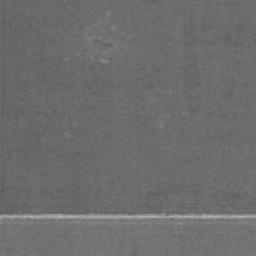Welding line: (0, 214, 256, 221)
